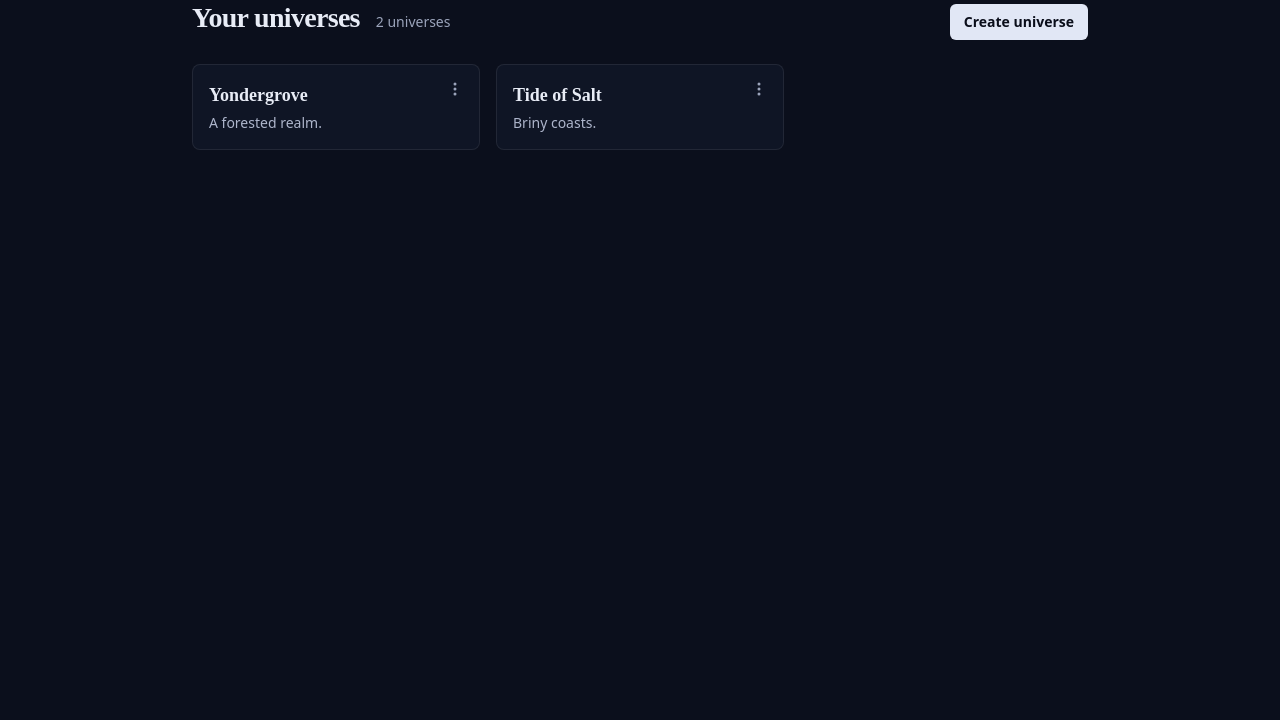
it: UniverseList view › opens the ConfirmDialog with the typed-confirmation gate disabled on Delete… (Test D)
This screenshot has width=1280, height=720.
Expected: the heading "Yondergrove" is shown, [209, 85, 308, 105]
Step 1. Click the button named "actions for yondergrove" → (455, 89), box [439, 73, 471, 105]
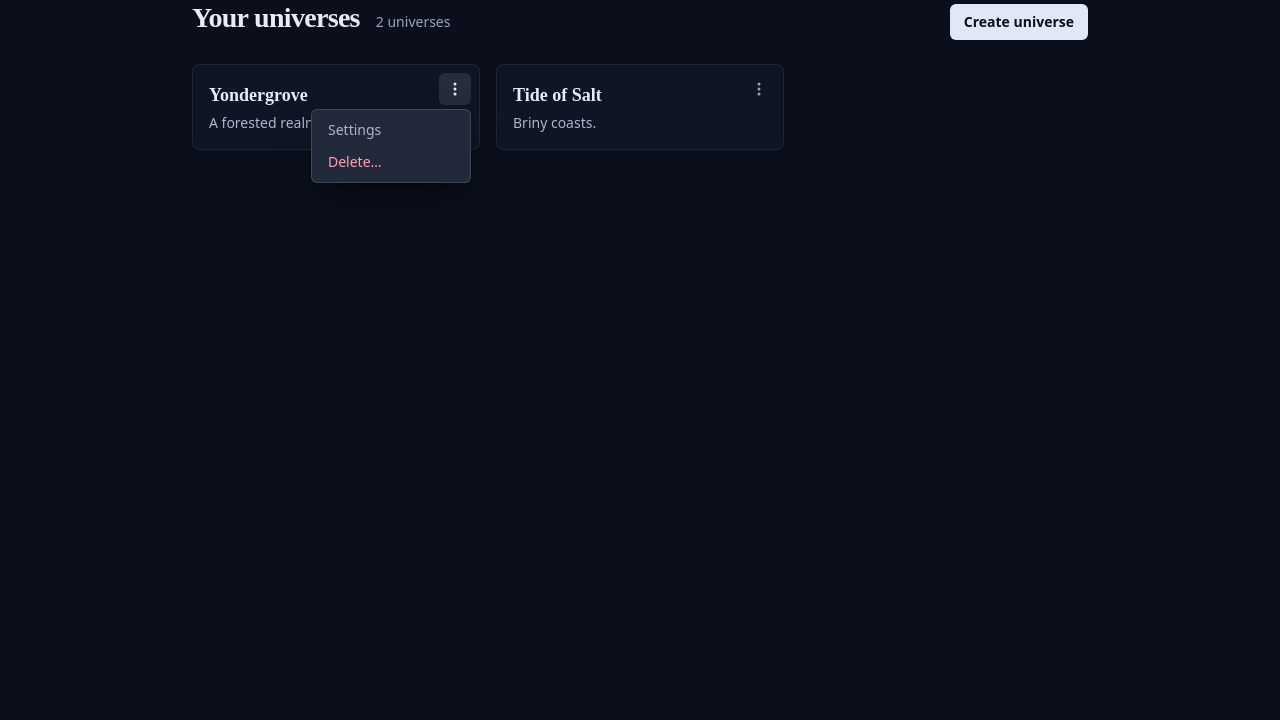
Step 2. Click the menu item "Delete…" → (355, 162), box [328, 152, 382, 171]
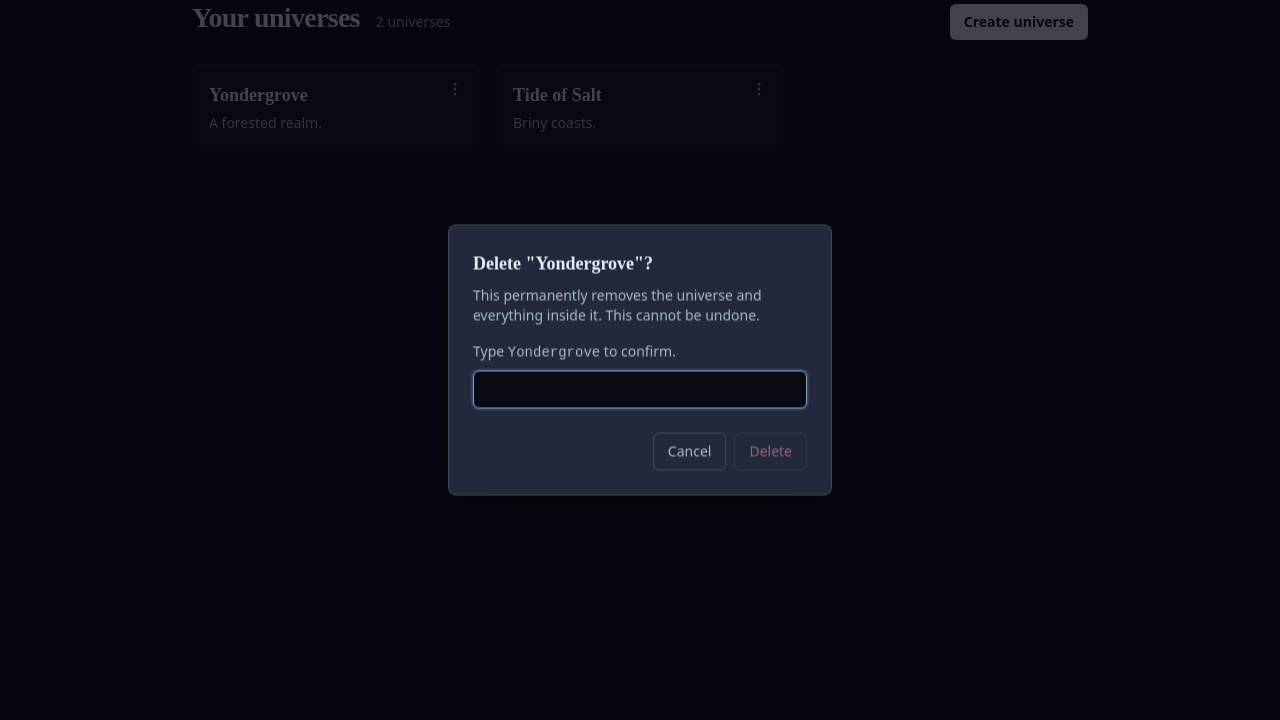
Result: the text "this permanently removes the universe and everything inside it. this cannot be undone." is shown at [473, 286, 762, 324]
Result: the field named "type universe name to confirm deletion" is shown at [473, 370, 807, 408]
Result: the button "Delete" is disabled at [734, 432, 807, 470]
